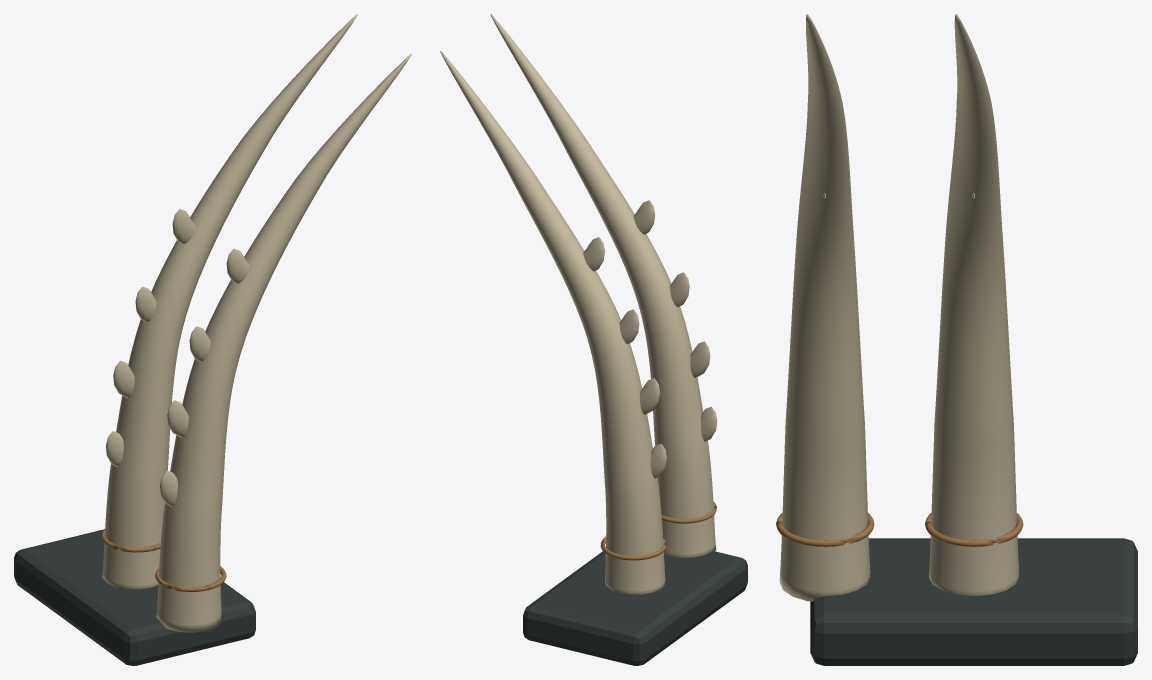
Rendered from bone_arch.glb.
The picture shows the model from 3 angles, left to right: view 1: azimuth 30°, elevation 25°; view 2: azimuth 150°, elevation 25°; view 3: azimuth 270°, elevation 25°; orthographic projection. The views are drawn at different scales.
Visible parts, largest first — view 1: Body__bone, Body__recess, Body__bronze; view 2: Body__bone, Body__recess, Body__bronze; view 3: Body__bone, Body__recess, Body__bronze.
Part boxes in pixels (x1=…): Body__bone: x1=102, y1=14, x2=411, y2=632; Body__recess: x1=14, y1=529, x2=255, y2=665; Body__bronze: x1=101, y1=529, x2=226, y2=591; Body__bone: x1=440, y1=14, x2=717, y2=594; Body__recess: x1=523, y1=551, x2=747, y2=665; Body__bronze: x1=600, y1=501, x2=716, y2=560; Body__bone: x1=779, y1=14, x2=1019, y2=601; Body__recess: x1=810, y1=538, x2=1137, y2=665; Body__bronze: x1=776, y1=513, x2=1023, y2=546.
Bounding box in the file's own units: 2.26 × 4.21 × 1.82.
